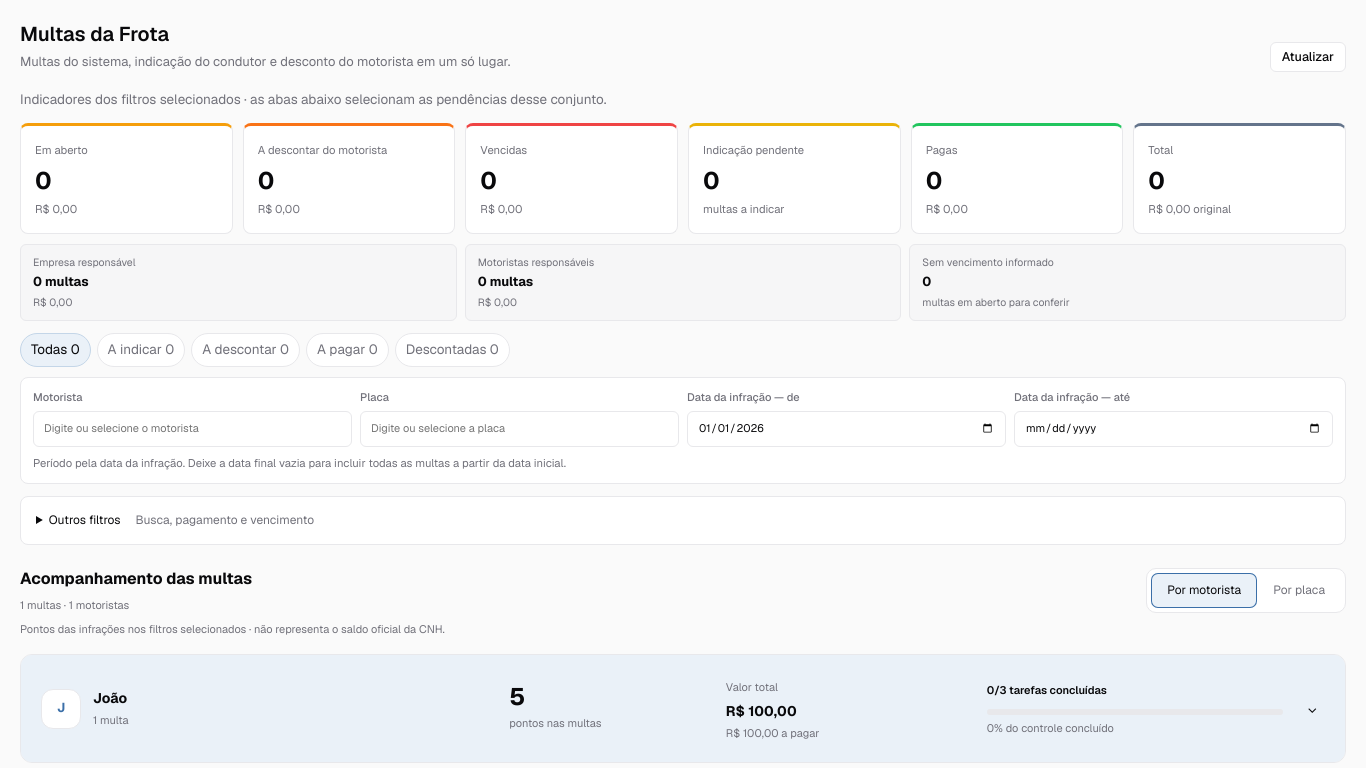
Scenario: retains the indication modal and its date when saving fails
This screenshot has width=1366, height=768.
Step 1. Click the button "João" → (61, 709), box [21,655,1345,762]
(page scrolled)
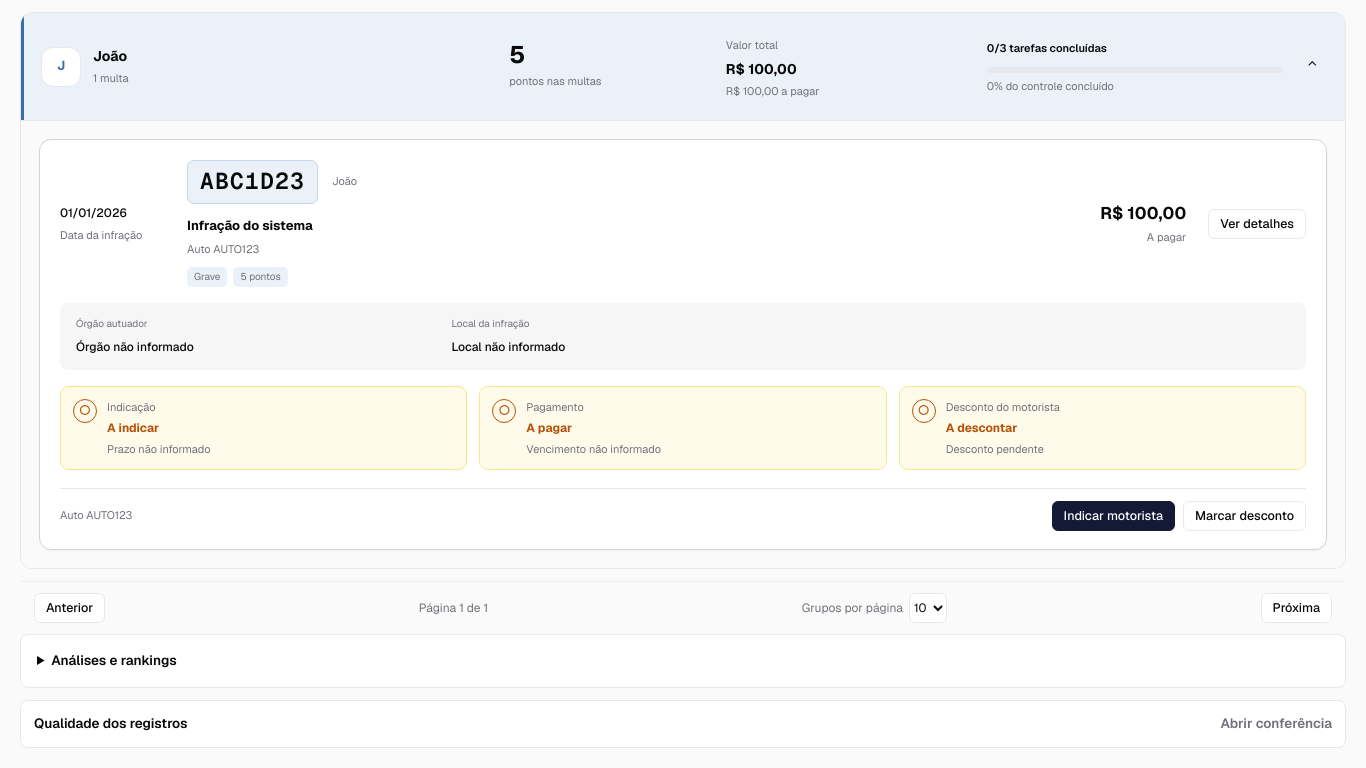
Step 2. Click the button with aria-label "Indicação AUTO123" → (1113, 516), box [1052,502,1175,532]
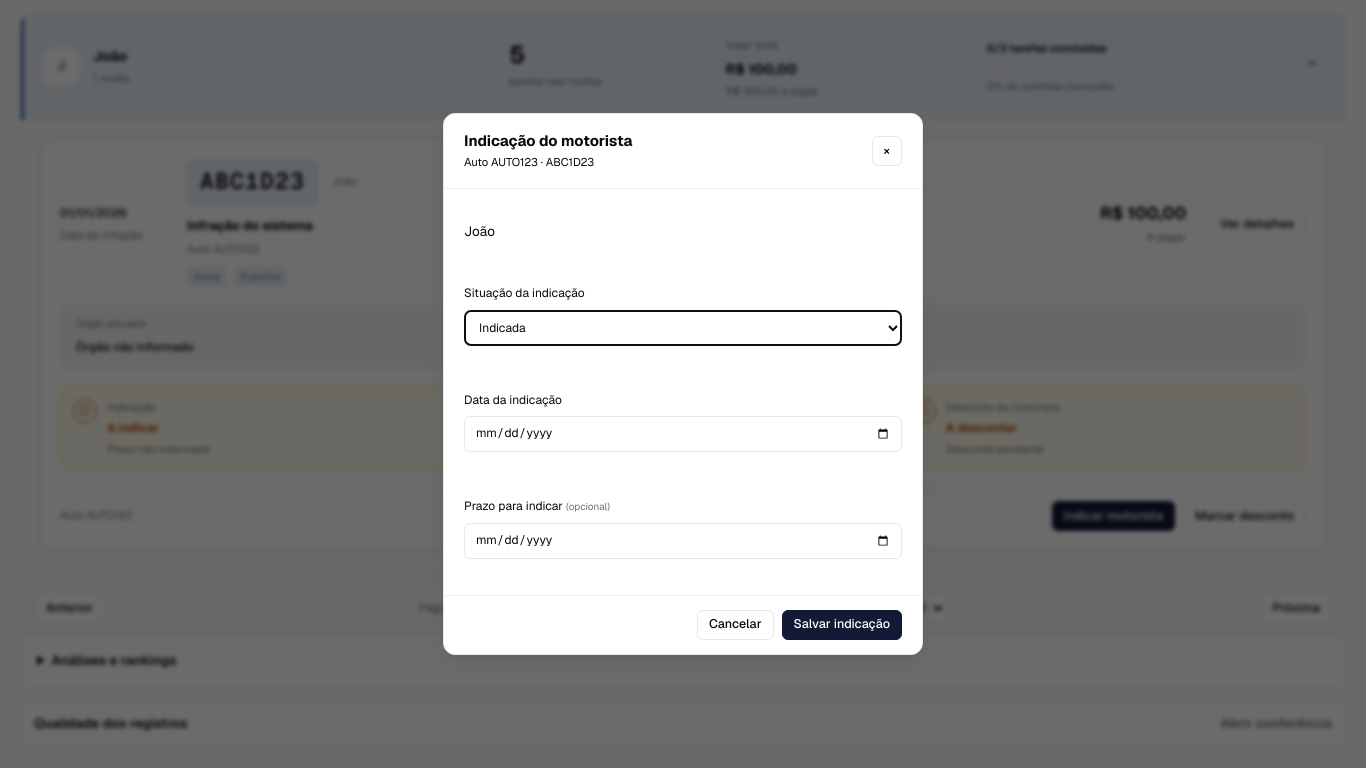
Step 3. Type "2026-11-05" into the date field labelled "Data da indicação" → (683, 434), box [464,416,902,452]
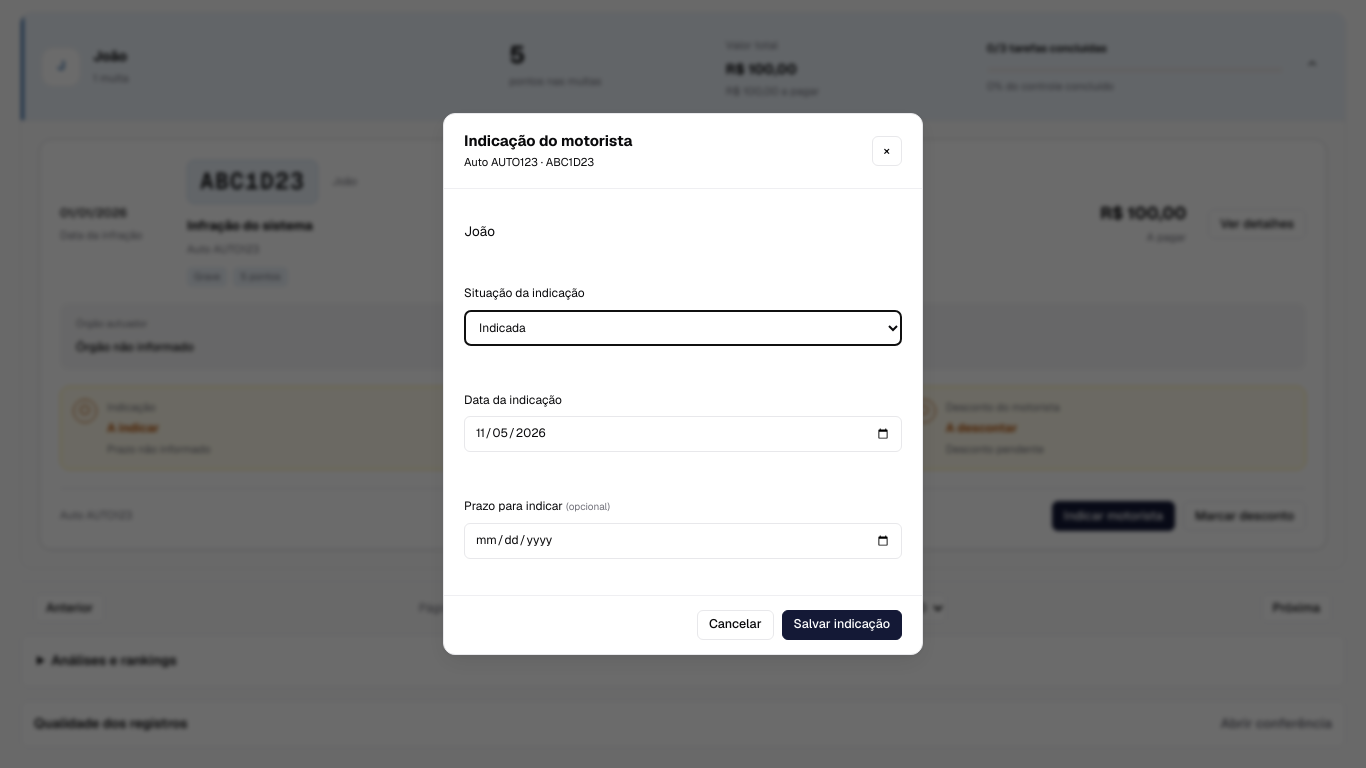
Step 4. Click the button "Salvar indicação" → (842, 624), box [782,610,902,640]
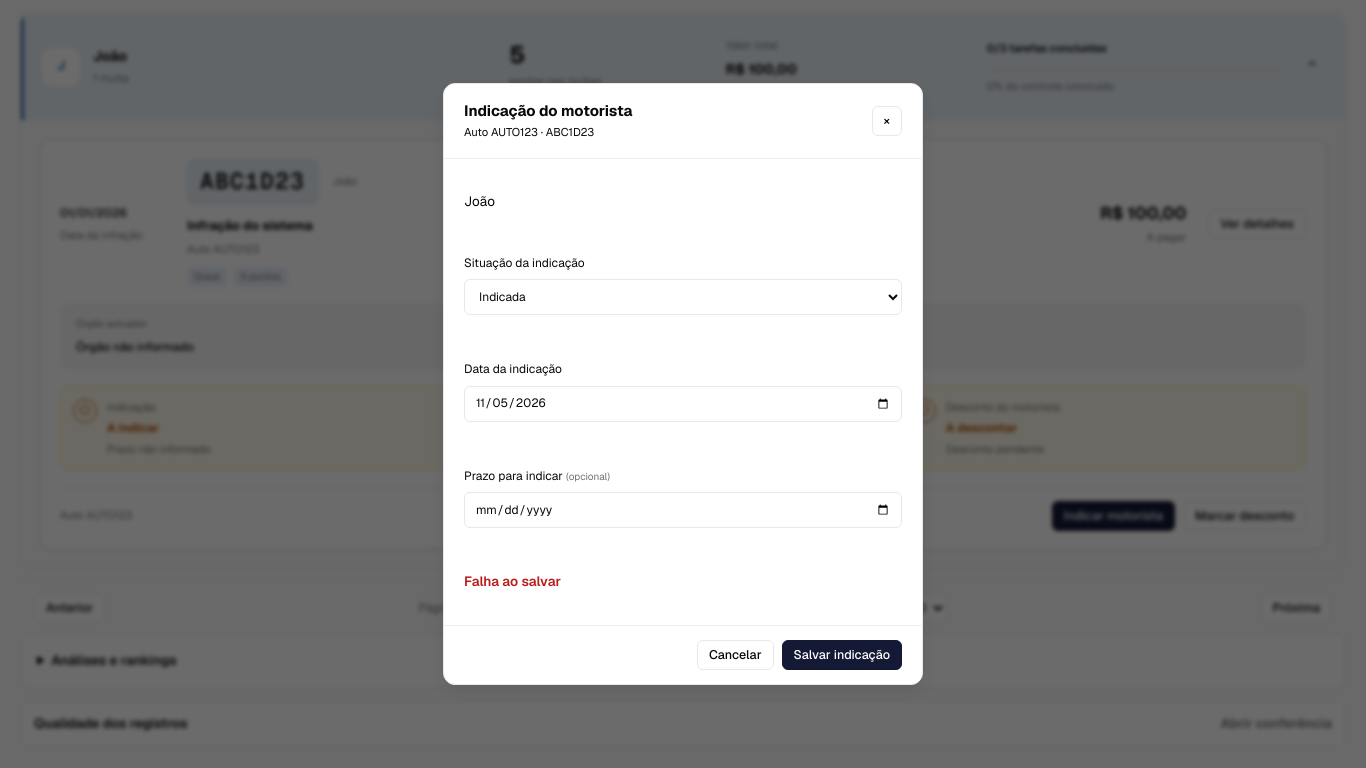
Check: the message reads "Falha ao salvar", box [464,572,561,590]
